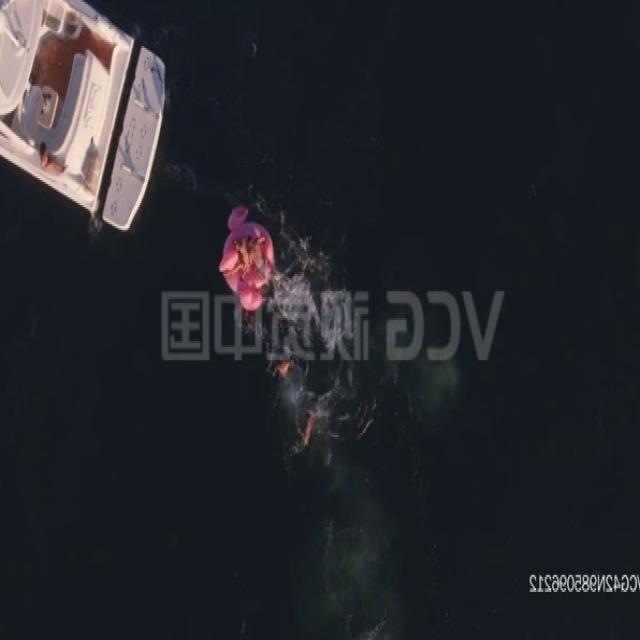houseboat: (0, 0, 170, 232)
